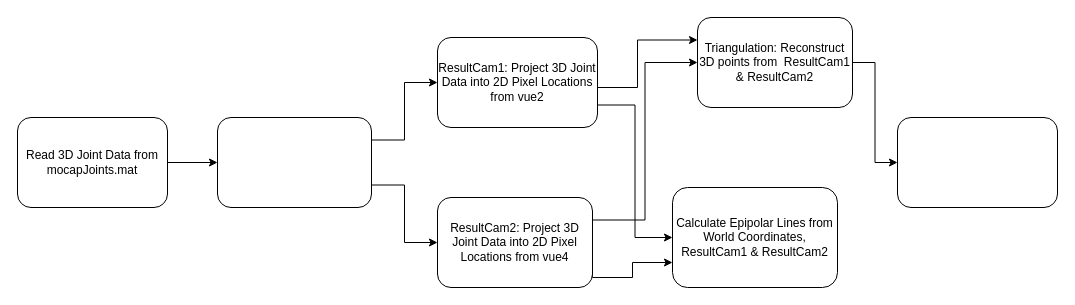
This 1075x305 diagram has some shape labels left out. Each missing label, with the box of its shape:
Measure Error between Triangulation & 3D Points: (896, 116, 1058, 208)
Reading Camera Parameters from vue2 & vue4: (216, 116, 372, 208)
